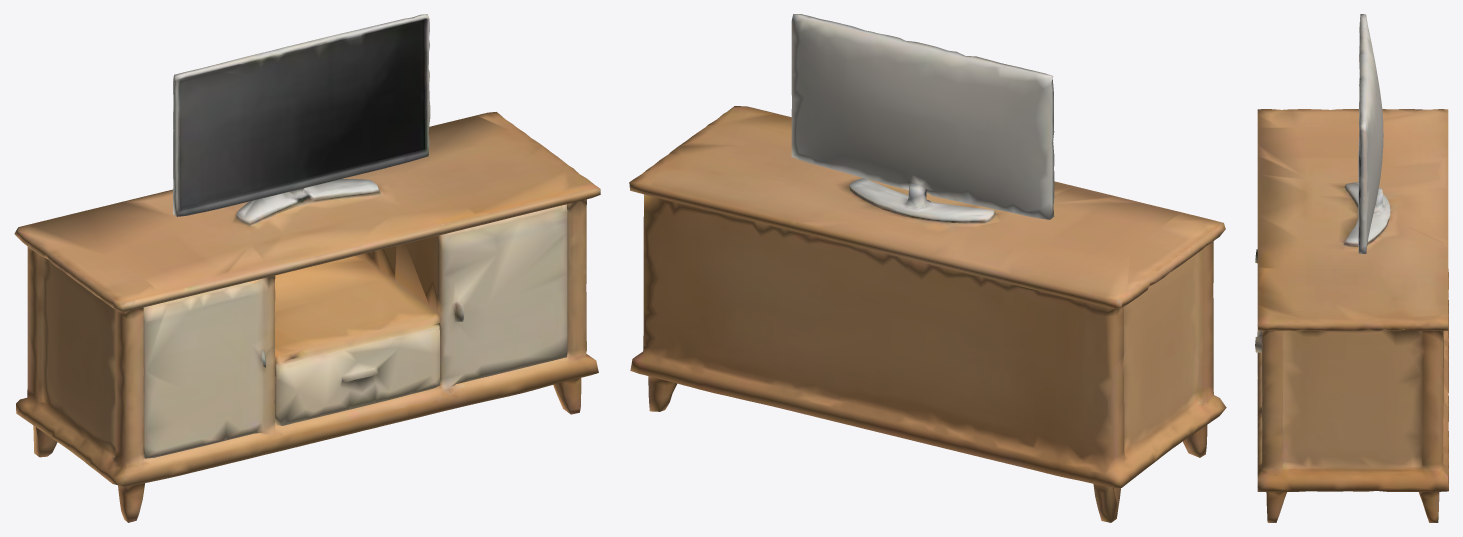
File: 03_tv_console.glb
3 views of the same model, side by side, from view 1: azimuth 30°, elevation 25°; view 2: azimuth 150°, elevation 25°; view 3: azimuth 270°, elevation 25° (orthographic). The views are drawn at different scales.
Visible parts, largest first — view 1: geometry_0; view 2: geometry_0; view 3: geometry_0.
Part boxes in pixels (x1,y1,x2,y2): geometry_0: [14, 14, 600, 522]; geometry_0: [629, 14, 1226, 522]; geometry_0: [1255, 14, 1448, 522].
Bounding box in the file's own units: 1.9 × 1.45 × 0.7223.
Materials: 1 (1 with a texture image).
